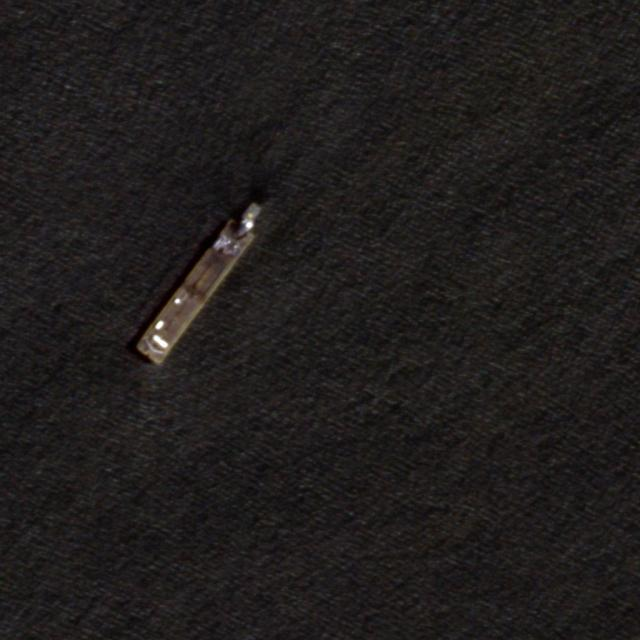boats: (133, 213, 255, 366)
